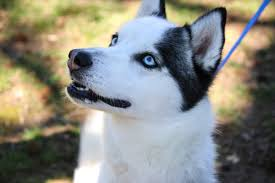Siberian Husky: (57, 1, 231, 179)
